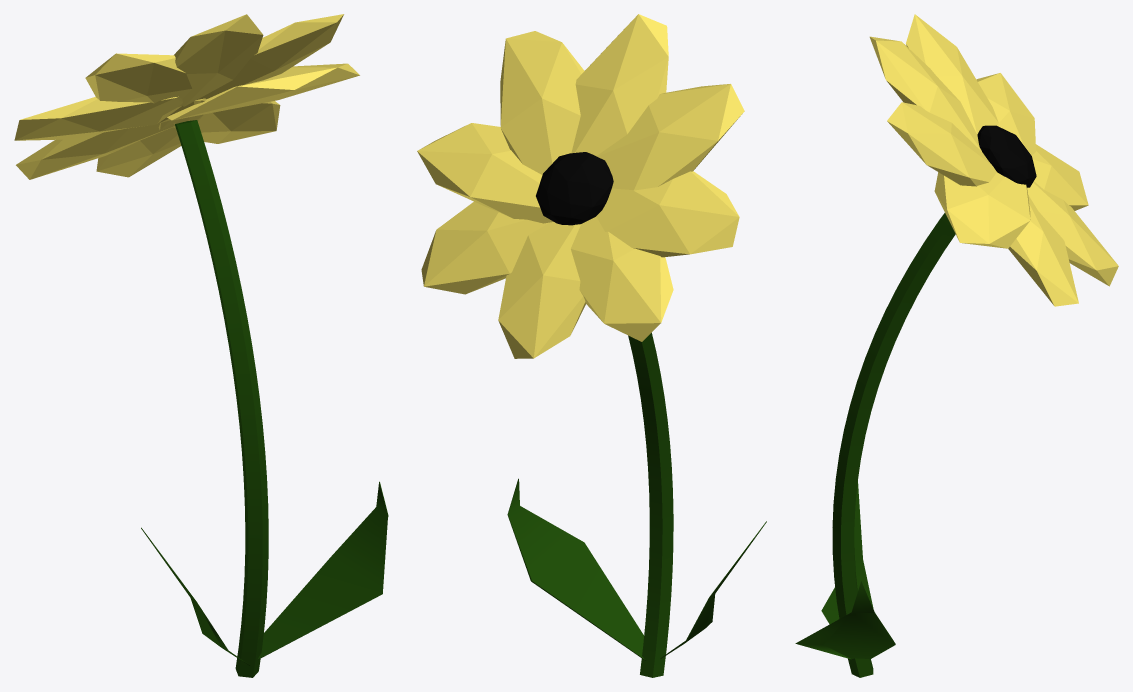
File: flowerwithstem.FBX
The picture shows the model from 3 angles, left to right: view 1: azimuth 30°, elevation 25°; view 2: azimuth 150°, elevation 25°; view 3: azimuth 270°, elevation 25°; orthographic projection. The views are drawn at different scales.
Visible parts, largest first — view 1: Arc002, Cylinder003, GeoSphere018, GeoSphere015, GeoSphere014, GeoSphere011, GeoSphere017, GeoSphere013, GeoSphere012, GeoSphere016, Cylinder004; view 2: GeoSphere011, GeoSphere014, GeoSphere015, GeoSphere018, GeoSphere016, Arc002, Cylinder003, GeoSphere013, GeoSphere017, GeoSphere012, GeoSphere010, Cylinder004; view 3: Arc002, GeoSphere017, GeoSphere011, GeoSphere018, GeoSphere014, GeoSphere012, Cylinder003, GeoSphere016, GeoSphere010, GeoSphere015, GeoSphere013, Cylinder004.
Part boxes in pixels (box(x1,y1,x2,y2)): Arc002: box(175, 120, 268, 677); Cylinder003: box(257, 481, 388, 659); GeoSphere018: box(158, 14, 263, 130); GeoSphere015: box(14, 96, 182, 140); GeoSphere014: box(85, 53, 192, 127); GeoSphere011: box(157, 14, 343, 123); GeoSphere017: box(167, 63, 359, 120); GeoSphere013: box(16, 123, 174, 179); GeoSphere012: box(194, 98, 280, 143); GeoSphere016: box(96, 114, 203, 177); Cylinder004: box(141, 527, 249, 665); GeoSphere011: box(500, 31, 584, 174); GeoSphere014: box(596, 84, 744, 190); GeoSphere015: box(596, 171, 739, 257); GeoSphere018: box(571, 14, 668, 155); GeoSphere016: box(498, 222, 585, 358); Arc002: box(628, 332, 673, 677); Cylinder003: box(507, 478, 645, 660); GeoSphere013: box(571, 216, 673, 341); GeoSphere017: box(417, 123, 553, 223); GeoSphere012: box(421, 201, 549, 294); GeoSphere010: box(536, 152, 613, 225); Cylinder004: box(660, 521, 766, 658); Arc002: box(832, 213, 955, 677); GeoSphere017: box(934, 172, 1030, 248); GeoSphere011: box(887, 102, 996, 186); GeoSphere018: box(869, 36, 981, 151); GeoSphere014: box(906, 14, 998, 134); GeoSphere012: box(1008, 195, 1078, 306); Cylinder003: box(795, 580, 895, 659); GeoSphere016: box(1027, 181, 1118, 286); GeoSphere010: box(977, 125, 1036, 187); GeoSphere015: box(976, 73, 1035, 155); GeoSphere013: box(1032, 144, 1088, 210); Cylinder004: box(821, 481, 873, 624).
Size of the model in its own units: 14.69 by 28.39 by 13.09.
